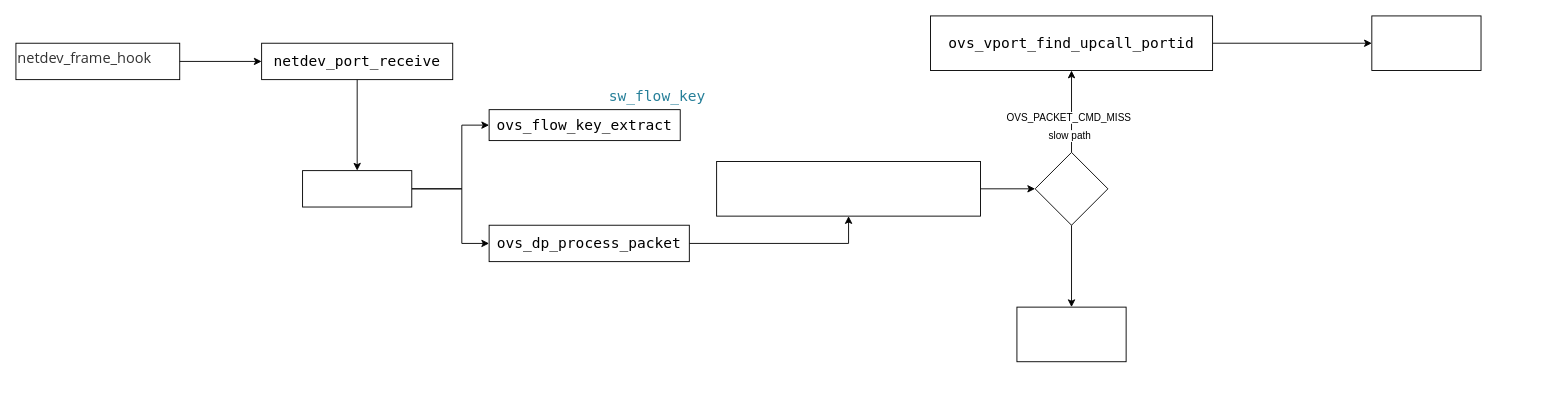
Some shapes in this 1561 by 396 pixel diagram are drawn without their labels. The box of each missing label's shape, as (x1, y1, x2, y2) in pixels:
ovs_dp_upcall: (1371, 15, 1481, 71)
ovs_flow_tbl_lookup_stats: (716, 161, 981, 216)
ovs_vport_receive: (302, 170, 412, 207)
